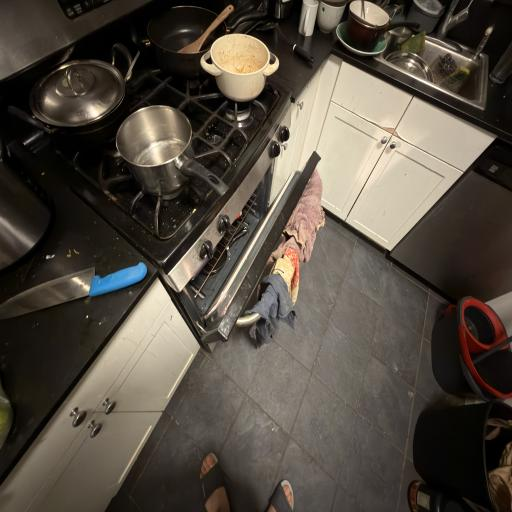Pan: (97, 91, 238, 238), (10, 51, 140, 147), (182, 20, 291, 108), (144, 8, 229, 79)
Stove: (0, 8, 327, 261)
knife: (0, 263, 146, 319)
